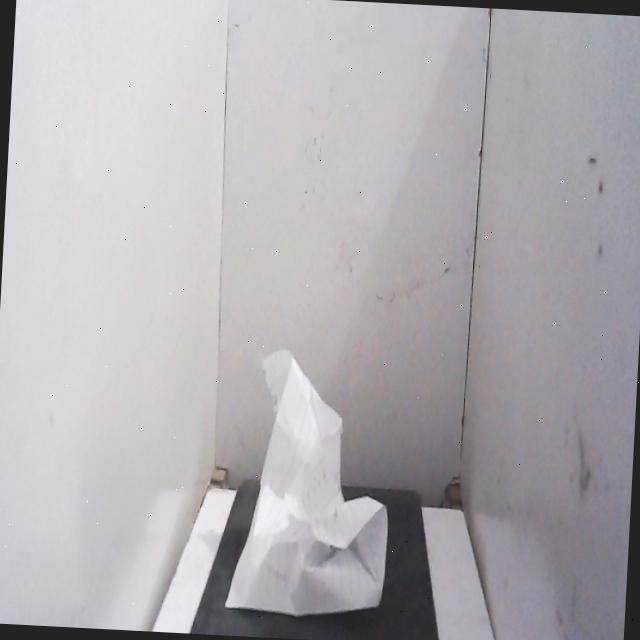papel: (220, 337, 400, 624)
